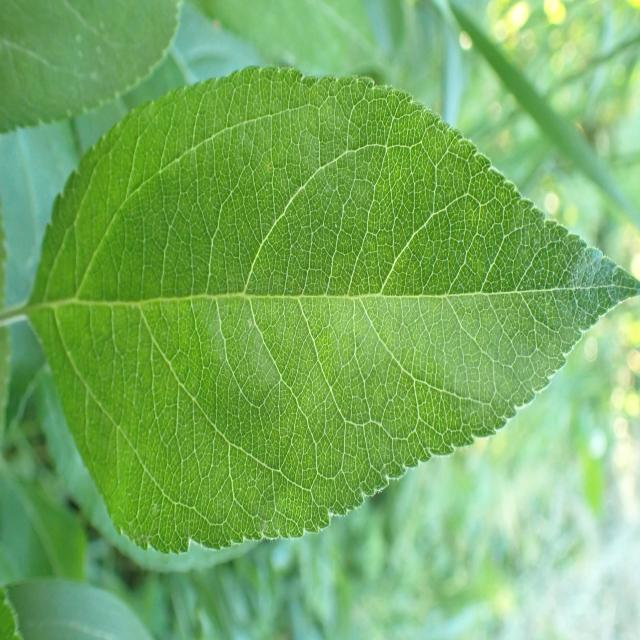healthy: (28, 66, 640, 555), (0, 0, 184, 134), (0, 576, 155, 640)
